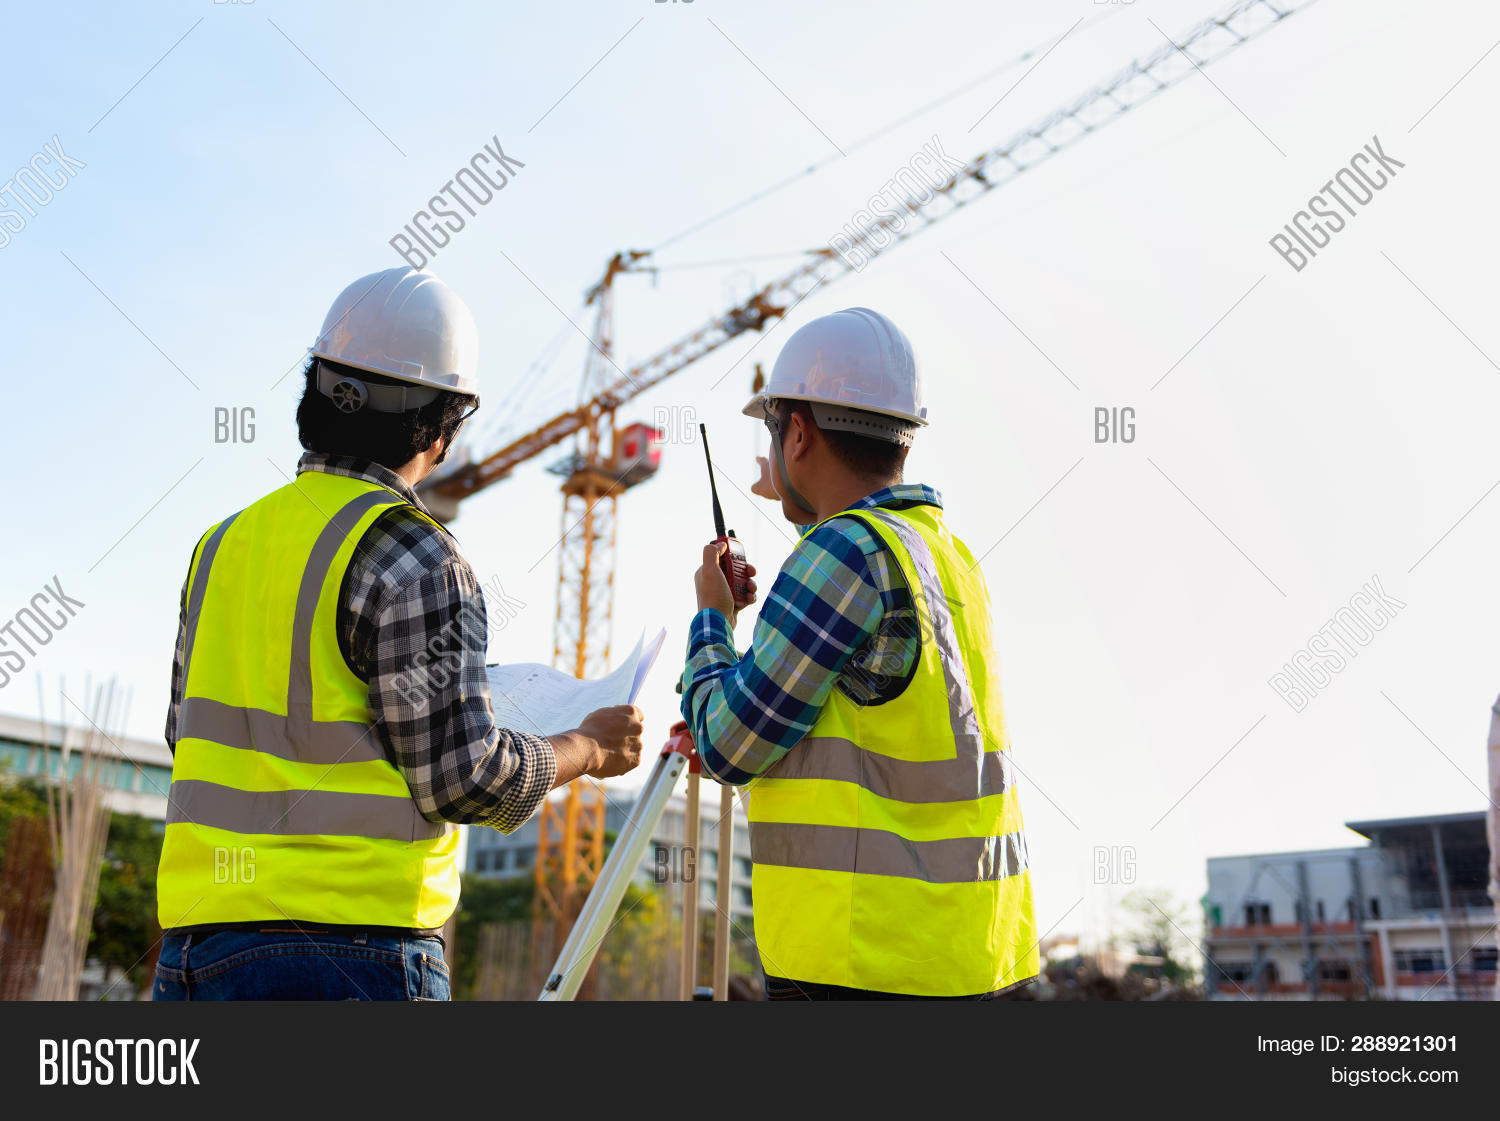casco: (301, 263, 484, 406), (737, 304, 932, 435)
